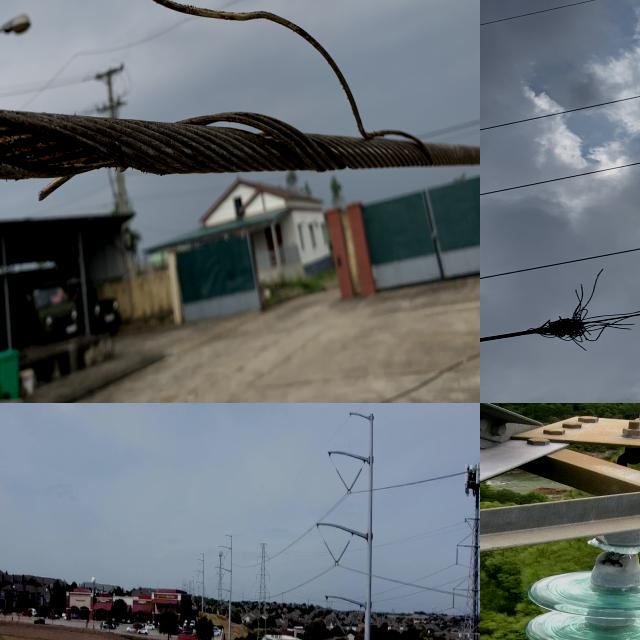杆塔: (441, 495, 480, 640), (254, 539, 272, 640)
正常绝缘子: (524, 533, 640, 640), (331, 534, 355, 574), (328, 605, 352, 640), (332, 460, 353, 498), (319, 534, 341, 570), (343, 465, 364, 500), (343, 606, 362, 640), (448, 587, 462, 623), (451, 536, 462, 572)
电缆破损: (120, 0, 439, 180), (514, 264, 640, 364)
绝缘子破损: (587, 539, 640, 570)
